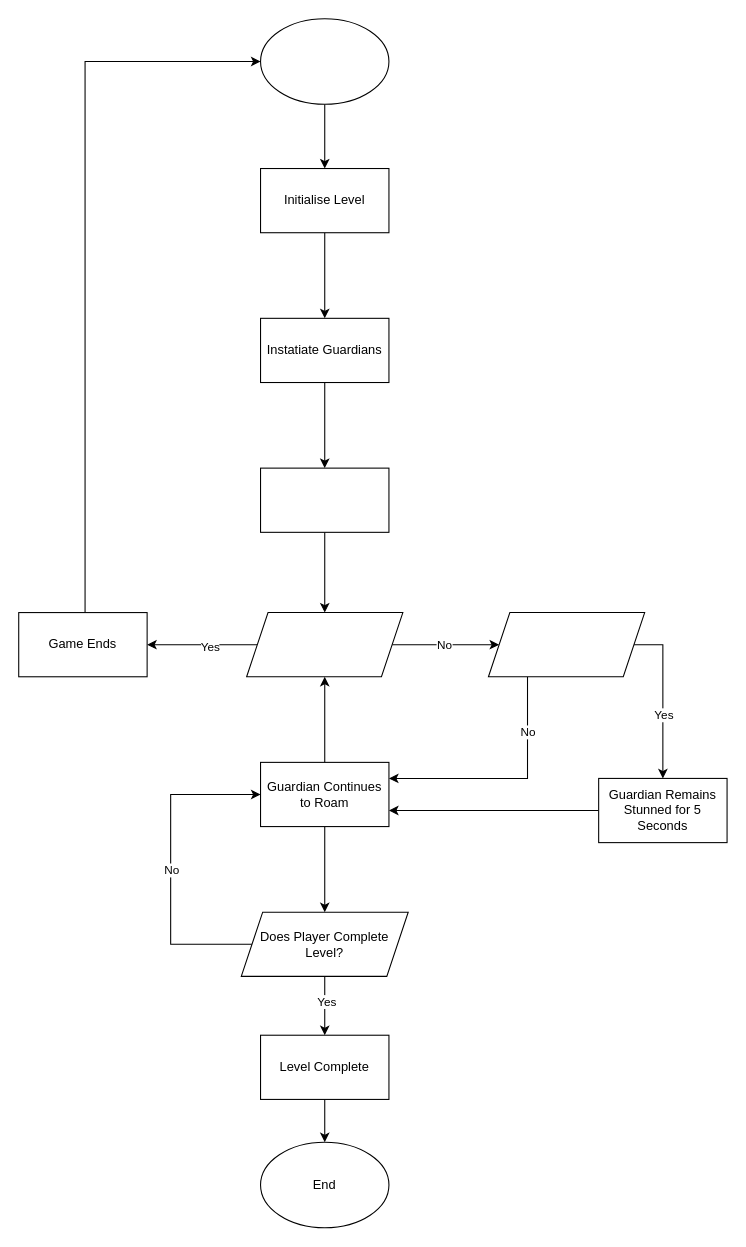
Image size: 746x1247. Some labels were removed from this diagram. The centre of each missing label's shape, as x and y in pixels:
"Does Guardian Spot Player?" belongs at [324,644].
"Guardians Begin To Roam" belongs at [324,499].
"Is Guardian Stunned?" belongs at [566,644].
"Start" belongs at [324,61].
